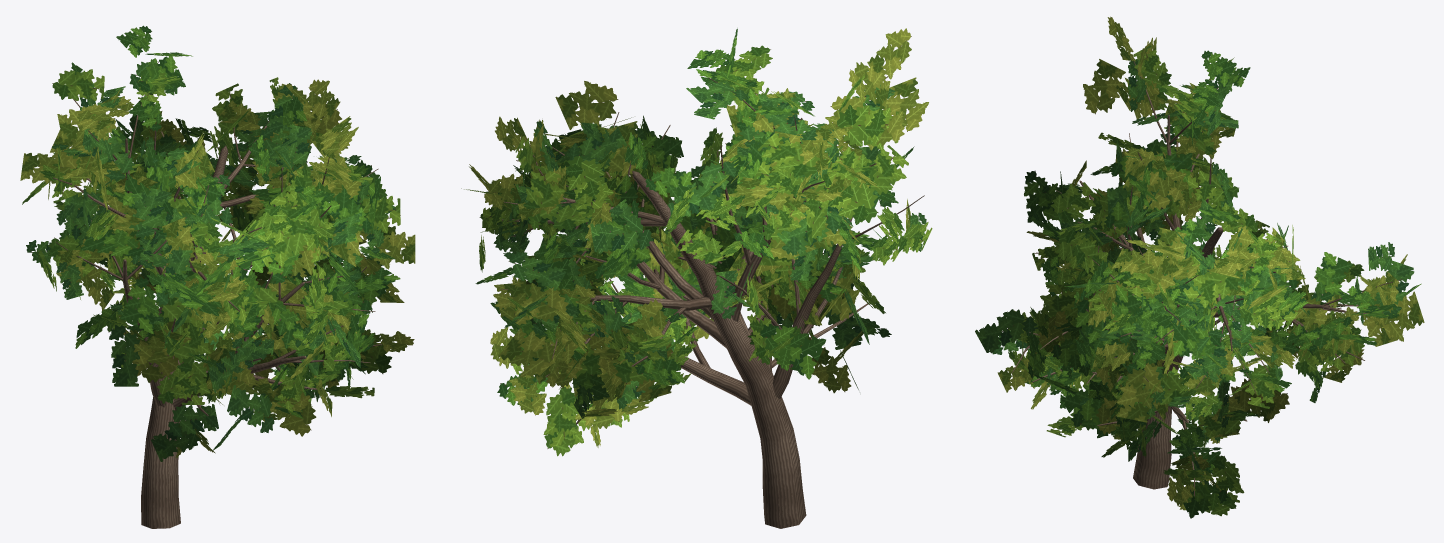
File: hero_oak_a_lod1.obj
3 views of the same model, side by side, from view 1: azimuth 30°, elevation 25°; view 2: azimuth 150°, elevation 25°; view 3: azimuth 270°, elevation 25° (orthographic). The views are drawn at different scales.
Visible parts, largest first — view 1: hero_oak_a_lod1; view 2: hero_oak_a_lod1; view 3: hero_oak_a_lod1.
Part boxes in pixels (x1=…): hero_oak_a_lod1: x1=20, y1=25, x2=415, y2=528; hero_oak_a_lod1: x1=461, y1=28, x2=932, y2=528; hero_oak_a_lod1: x1=975, y1=16, x2=1424, y2=518.
Bounding box in the file's own units: 12.17 × 14.42 × 13.46.
2 materials, 2 textured.
